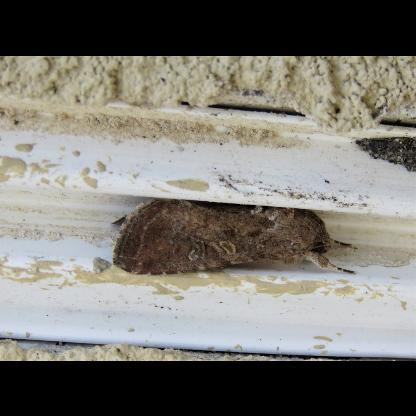Fall Armyworm Moth: (108, 196, 360, 276)
